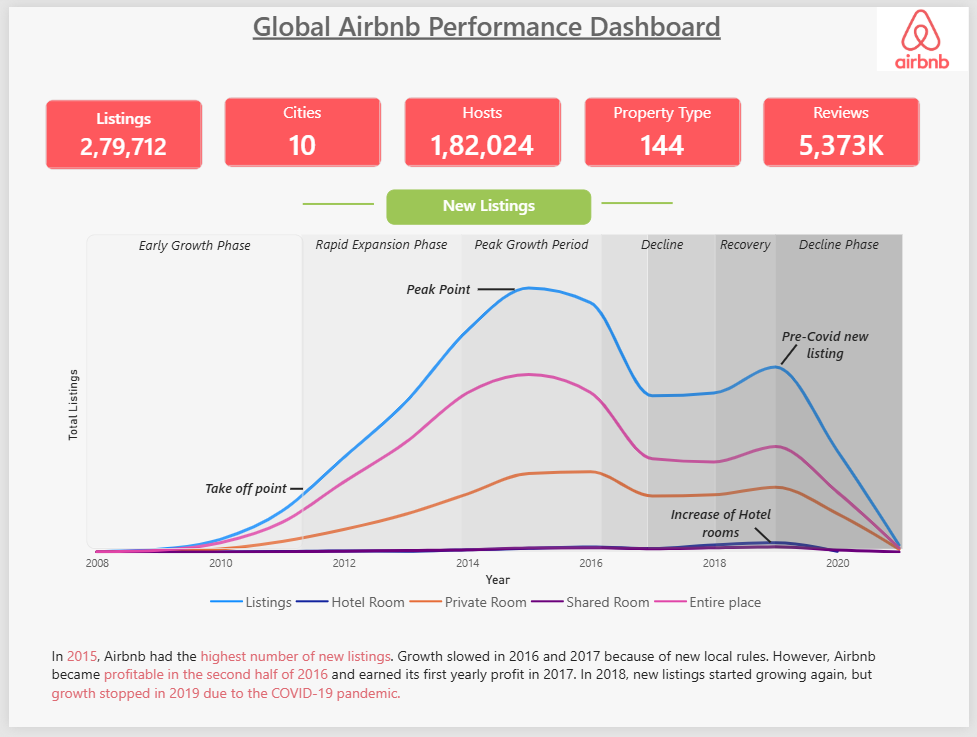

What the dashboard file says about the page in this screenshot:
{"tool":"powerbi","page":{"name":"Overview 1.1","canvas":[960,720],"ordinal":0},"visuals":[{"type":"textbox","box":[114.4,0,728,90.8],"z":0},{"type":"image","box":[865.7,0,94.3,64.3],"z":1000},{"type":"cardVisual","fields":{"Data":["Count(Listings.host_id)"]},"box":[395,90,157.5,70],"z":2000},{"type":"cardVisual","fields":{"Data":["Count(Listings.property_type)"]},"box":[574.5,90,157.5,70],"z":3000},{"type":"cardVisual","fields":{"Data":["CountNonNull(Reviews.review_id)"]},"box":[754,90,157.5,70],"z":4000},{"type":"cardVisual","fields":{"Data":["CountNonNull(Listings.listing_id)"]},"box":[36,92,157.5,70],"z":5000},{"type":"cardVisual","fields":{"Data":["Count(Listings.city)"]},"box":[215.5,90,157.5,70],"z":6000},{"type":"lineChart","title":"Listing","fields":{"Category":["Listings.host_since.Variation.Date Hierarchy.Year"],"Y":["CountNonNull(Listings.listing_id)","Listings.Hotel Room","Listings.Private Room","Listings.Shared Room","Listings.Entire place"]},"box":[41.6,226.9,876.9,397.6],"z":7000},{"type":"textbox","box":[377.5,182,205,35],"z":8000},{"type":"shape","box":[592.9,52.9,71.4,287.1],"z":9000},{"type":"shape","box":[294.3,55.7,71.4,281.4],"z":10000},{"type":"shape","box":[77.1,227.1,217.1,314.3],"z":11000},{"type":"shape","box":[292.9,227.1,160,314.3],"z":12000},{"type":"shape","box":[452.9,227.1,140,314.3],"z":13000},{"type":"shape","box":[592.9,227.1,45.7,314.3],"z":14000},{"type":"shape","box":[638.6,227.1,67.1,314.3],"z":15000},{"type":"shape","box":[705.7,227.1,60,314.3],"z":16000},{"type":"shape","box":[765.7,227.1,127.1,314.3],"z":17000},{"type":"shape","box":[587.1,227.1,131.4,32.9],"z":18000},{"type":"shape","box":[192.9,464.3,88.6,32.9],"z":19000},{"type":"shape","box":[378.8,272.5,101.4,20],"z":20000},{"type":"shape","box":[765.7,311.4,100,51.4],"z":21000},{"type":"shape","box":[652.9,497.1,118.6,40],"z":22000},{"type":"shape","box":[771.4,311.4,17.5,72.5],"z":23000},{"type":"shape","box":[468.6,254.3,37.1,57.1],"z":24000},{"type":"shape","box":[281.1,466.3,13.2,31.1],"z":25000},{"type":"shape","box":[745,506.2,17.5,43.8],"z":26000},{"type":"textbox","box":[42.9,638.6,850,81.4],"z":27000}]}

Visuals, with their boxes in screenshot pixels (x1, y1, x2, y2), scaled from the page's 960x720 canvas onto the 977x737 screenshot:
textbox: 116:0:857:93
image: 881:0:976:66
cardVisual - Count(Listings.host_id): 402:92:562:164
cardVisual - Count(Listings.property_type): 585:92:745:164
cardVisual - CountNonNull(Reviews.review_id): 767:92:928:164
cardVisual - CountNonNull(Listings.listing_id): 37:94:197:166
cardVisual - Count(Listings.city): 219:92:380:164
"Listing" lineChart: 42:232:935:639
textbox: 384:186:593:222
shape: 603:54:676:348
shape: 300:57:372:345
shape: 78:232:299:554
shape: 298:232:461:554
shape: 461:232:603:554
shape: 603:232:650:554
shape: 650:232:718:554
shape: 718:232:779:554
shape: 779:232:909:554
shape: 597:232:731:266
shape: 196:475:286:509
shape: 386:279:489:299
shape: 779:319:881:371
shape: 664:509:785:550
shape: 785:319:803:393
shape: 477:260:515:319
shape: 286:477:300:509
shape: 758:518:776:563
textbox: 44:654:909:736
